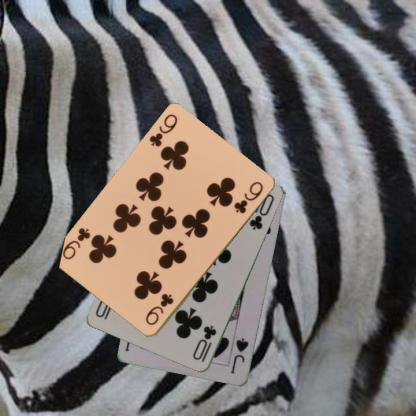10c: (190, 323, 218, 364)
9c: (146, 112, 179, 149), (143, 291, 175, 327)
Js: (228, 336, 250, 376)
